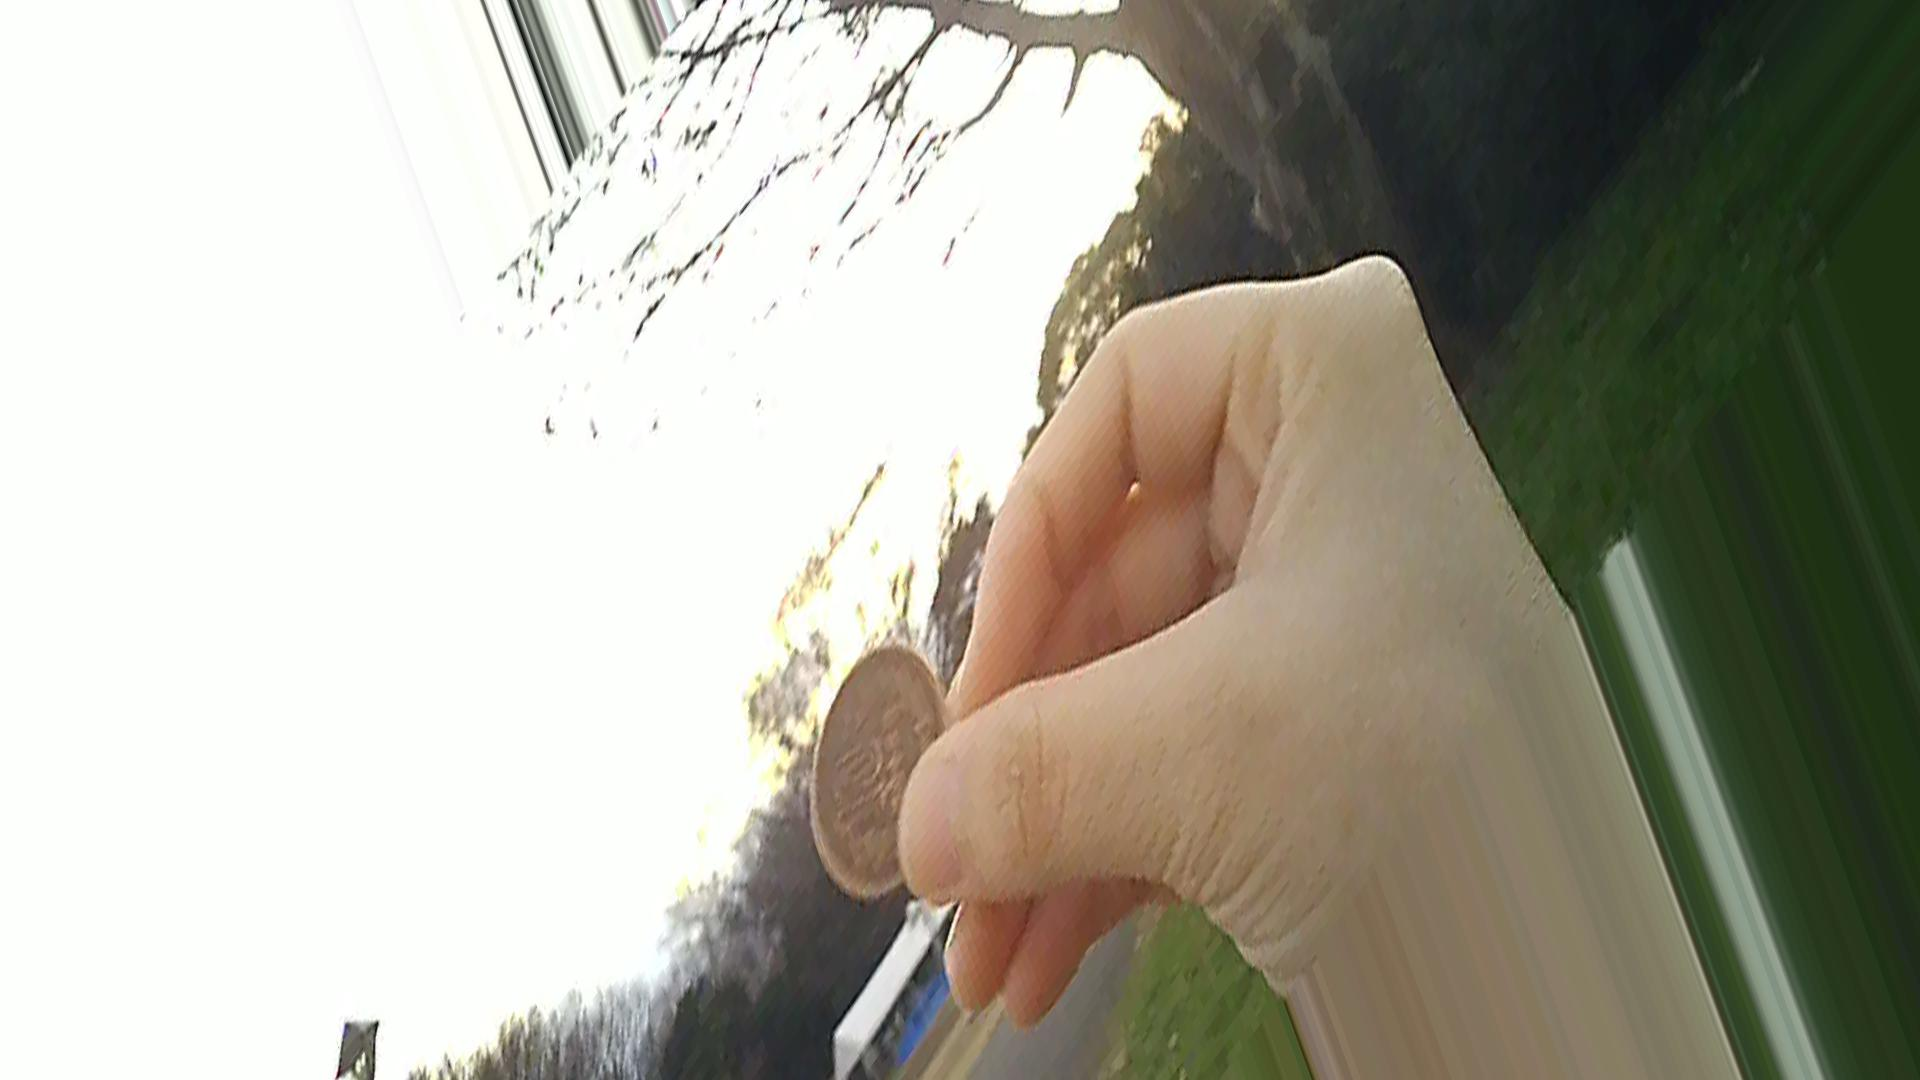10 Yen: (785, 637, 965, 913)
